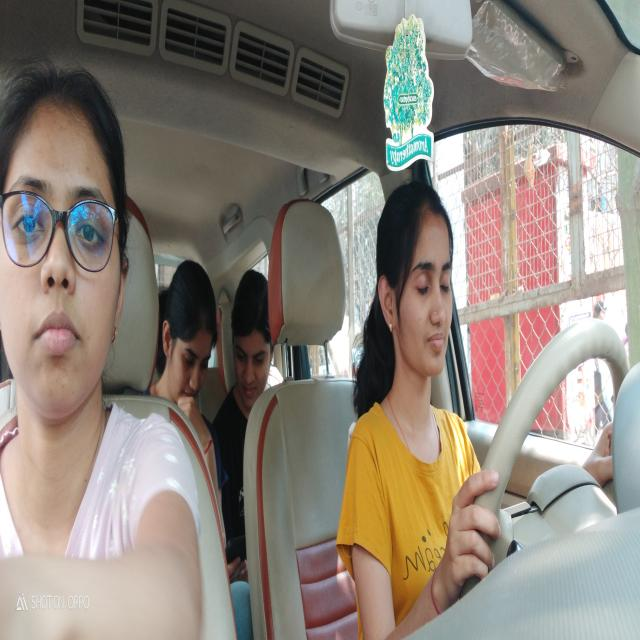drowsy: (374, 170, 467, 418)
person: (0, 54, 134, 420), (159, 243, 217, 412), (229, 254, 274, 406)
